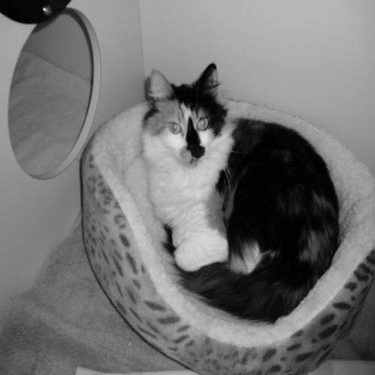cat: (134, 60, 340, 322)
